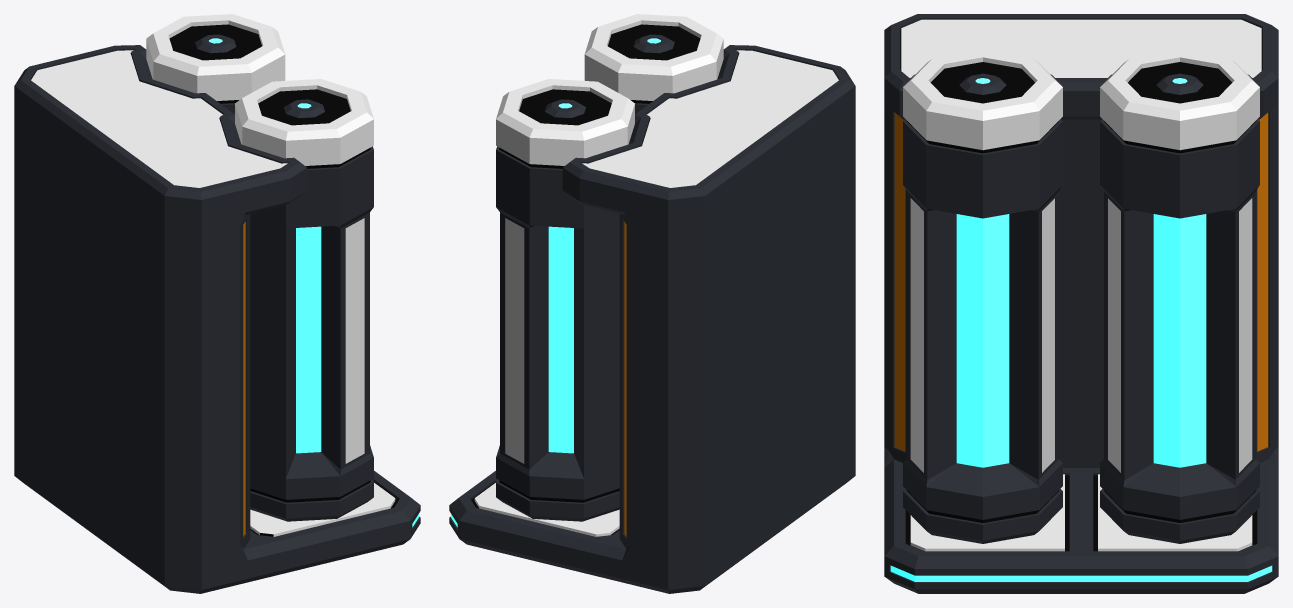
The model's file is SM_Energy_Canister_Unit.fbx.
3 renders of one model, left to right at view 1: azimuth 30°, elevation 25°; view 2: azimuth 150°, elevation 25°; view 3: azimuth 270°, elevation 25°, orthographic. The views are drawn at different scales.
Parts seen in each view (by area): view 1: SM_Energy_Canister_Unit; view 2: SM_Energy_Canister_Unit; view 3: SM_Energy_Canister_Unit.
Boxes of the visible parts, box(x1,y1,x2,y2) form: SM_Energy_Canister_Unit: box(14, 14, 420, 593); SM_Energy_Canister_Unit: box(449, 14, 855, 593); SM_Energy_Canister_Unit: box(884, 14, 1278, 593).
Bounding box in the file's own units: 15 × 23.75 × 18.
